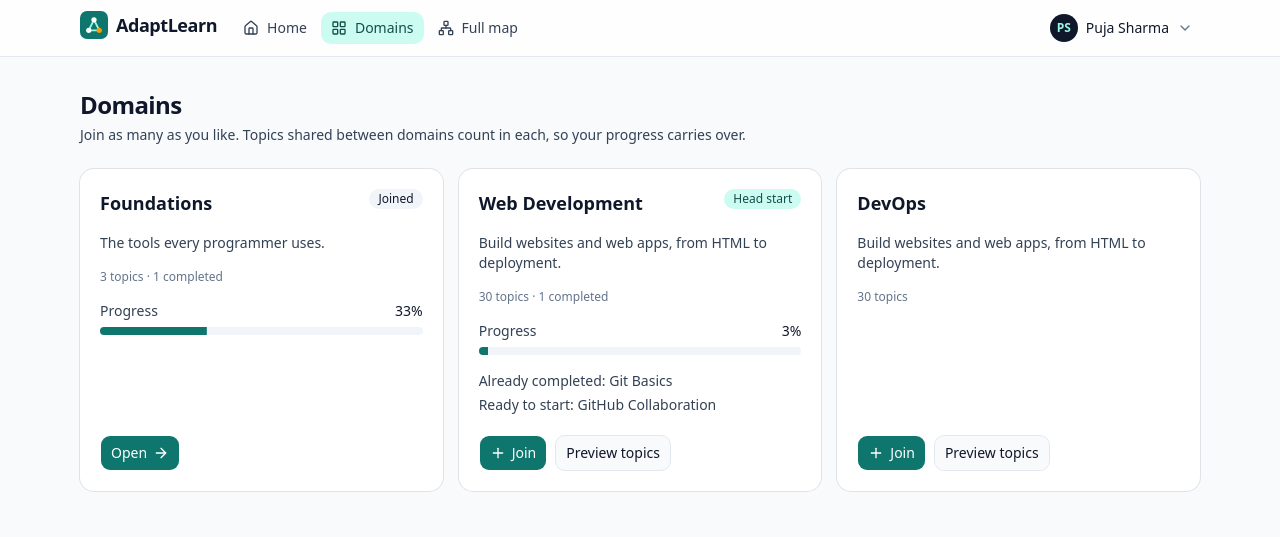
joining › shows progress, ignores a second click, and explains a failure on that domain
Click the button with aria-label "Join Web Development". click: click(513, 453)
box: x1=479 y1=435 x2=547 y2=471
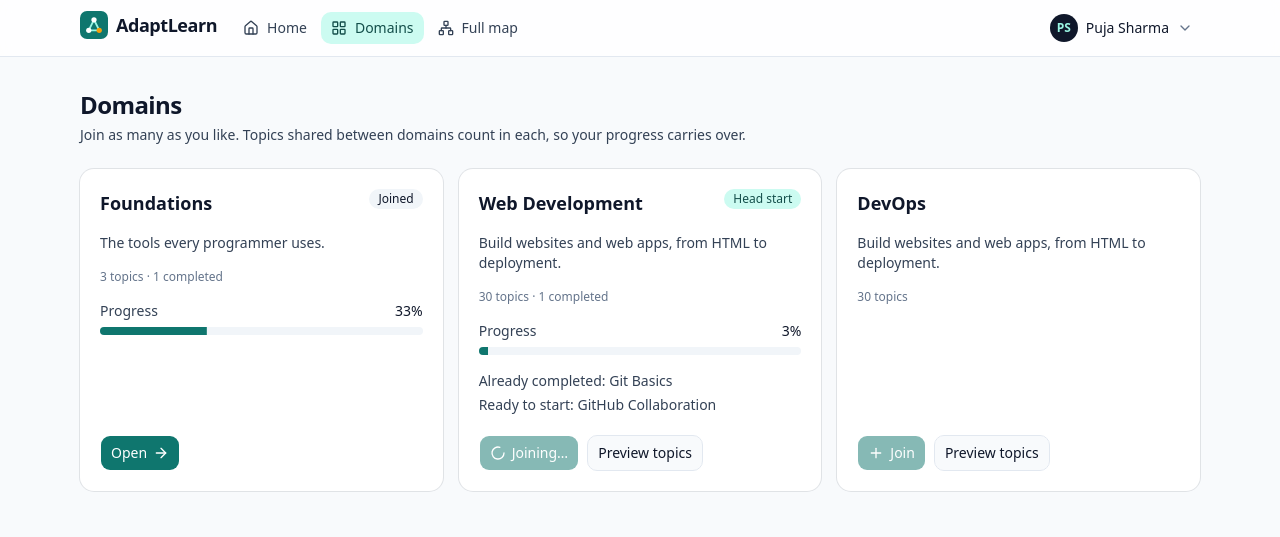
Check: the button with aria-label "Join Web Development" reads "Joining…"
Check: the button with aria-label "Join Web Development" is disabled
Check: the button with aria-label "Join DevOps" is disabled, box x1=857 y1=435 x2=926 y2=471
Click the button with aria-label "Join Web Development". click: click(529, 453)
box: x1=479 y1=435 x2=579 y2=471
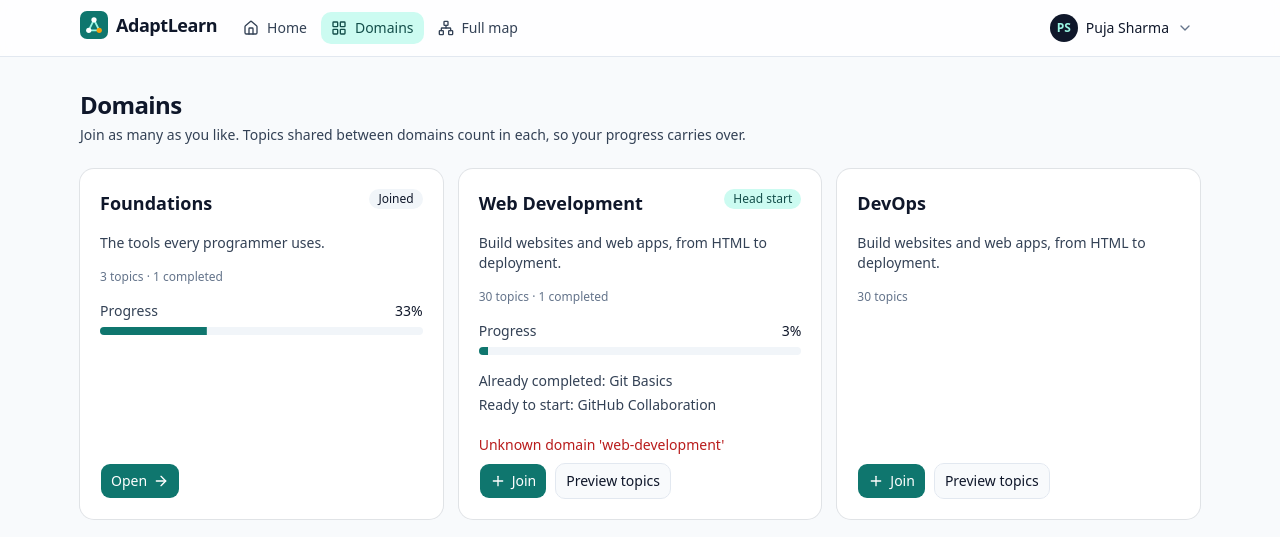
Check: the message reads "Unknown domain 'web-development'", box x1=479 y1=435 x2=724 y2=454
Check: the button with aria-label "Join Web Development" is enabled, box x1=479 y1=463 x2=547 y2=499
Check: the button with aria-label "Join DevOps" is enabled, box x1=857 y1=463 x2=926 y2=499
